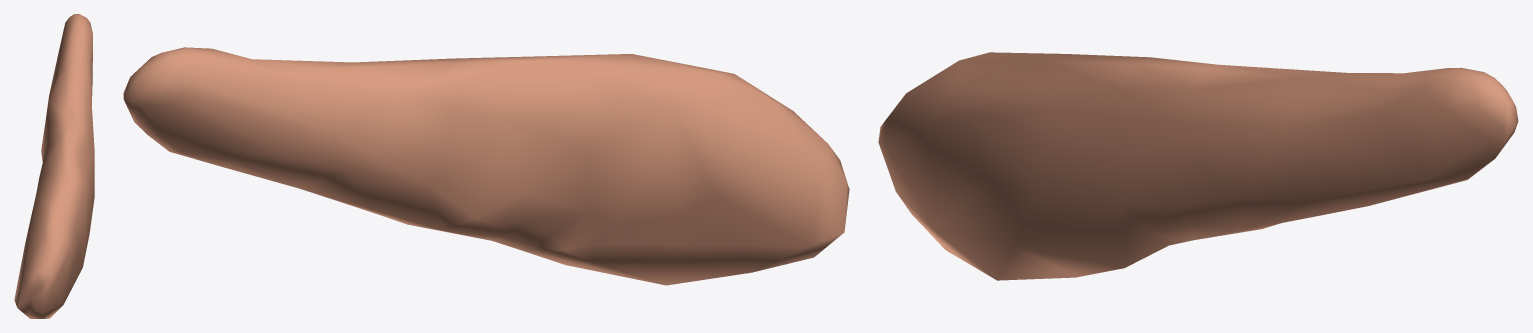
Rendered from sublingual-gland-l.glb.
3 views of the same model, side by side, from view 1: azimuth 30°, elevation 25°; view 2: azimuth 150°, elevation 25°; view 3: azimuth 270°, elevation 25° (orthographic). The views are drawn at different scales.
Parts seen in each view (by area): view 1: Sublingual gland.l; view 2: Sublingual gland.l; view 3: Sublingual gland.l.
Part boxes in pixels (x1,y1,x2,y2): Sublingual gland.l: (14,14,94,318); Sublingual gland.l: (123,47,849,285); Sublingual gland.l: (878,52,1518,280).
Bounding box in the file's own units: 0.0165 × 0.0124 × 0.0212.
